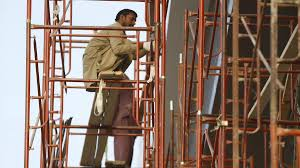arm: (110, 27, 153, 58)
face: (120, 10, 137, 26)
glove: (140, 40, 151, 52)
human: (79, 4, 149, 87)
nogoggle: (122, 14, 135, 21)
nohelmet: (114, 5, 138, 25)
novest: (86, 22, 126, 63)
